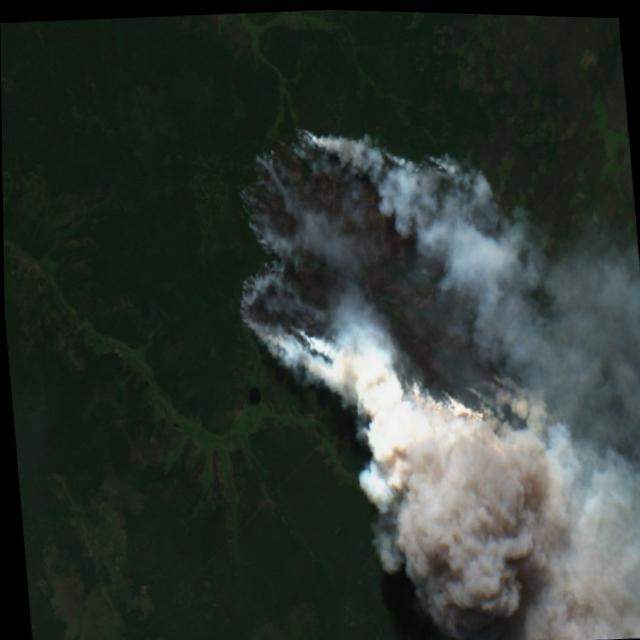fire: (220, 99, 563, 487)
